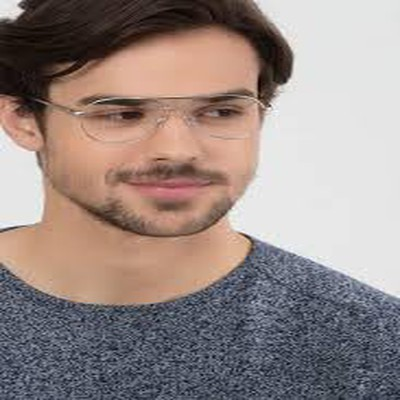eywear: (46, 69, 282, 152)
